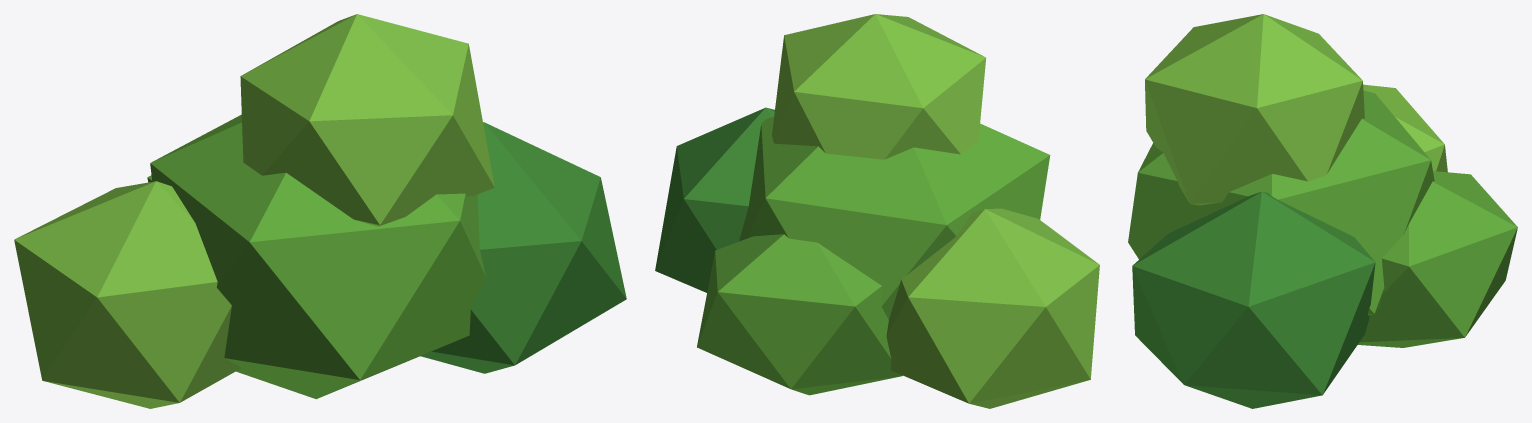
The model's file is shrub_round.glb.
The picture shows the model from 3 angles, left to right: view 1: azimuth 30°, elevation 25°; view 2: azimuth 150°, elevation 25°; view 3: azimuth 270°, elevation 25°; orthographic projection. The views are drawn at different scales.
Visible parts, largest first — view 1: part_top, shrub_round; view 2: part_top, shrub_round; view 3: part_top, shrub_round.
Part boxes in pixels (x1=…): part_top: x1=14, y1=14, x2=626, y2=408; shrub_round: x1=150, y1=114, x2=485, y2=399; part_top: x1=655, y1=14, x2=1099, y2=408; shrub_round: x1=739, y1=116, x2=1050, y2=319; part_top: x1=1132, y1=14, x2=1517, y2=408; shrub_round: x1=1128, y1=90, x2=1434, y2=315.
Size of the model in its own units: 1.07 by 0.7614 by 0.786.
